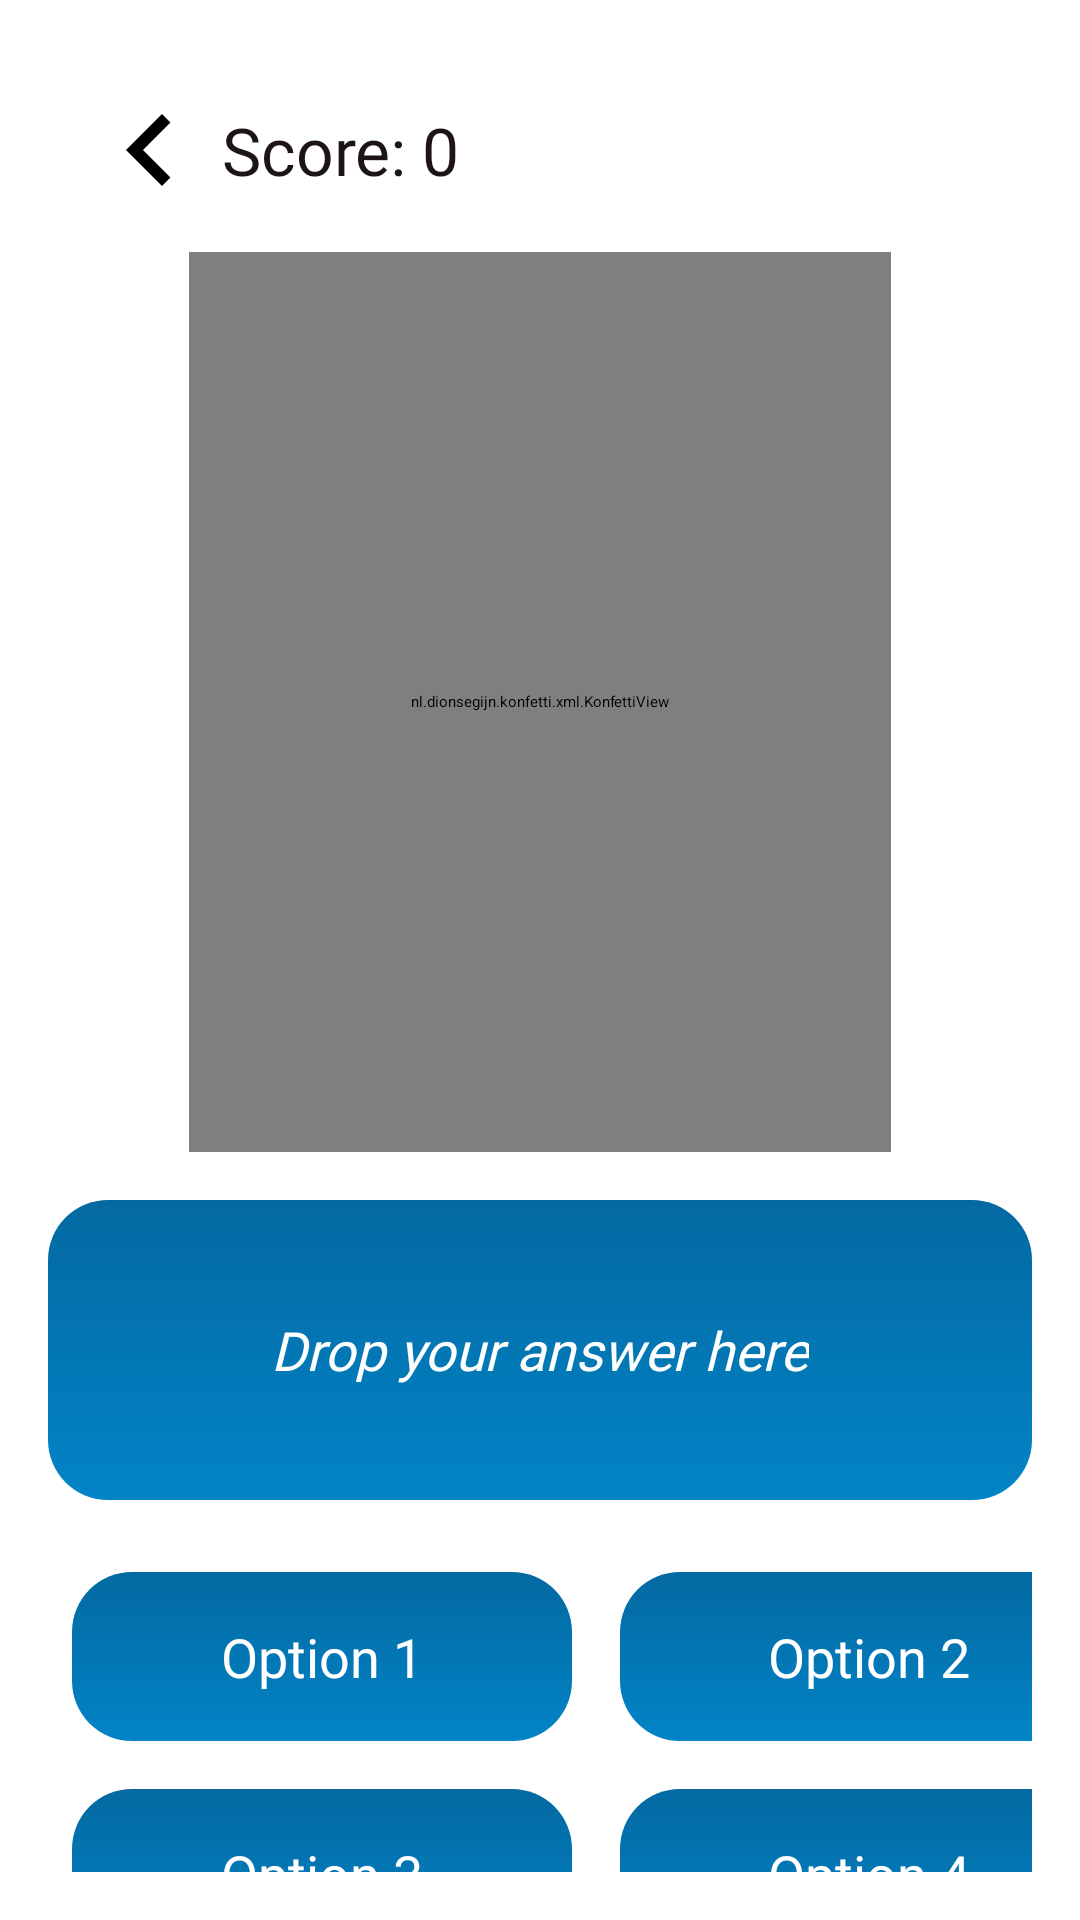

Where icons sit on this 1080x1920 app screen, as (left=x1, top=y1, right=x2, bottom=y2):
back: (left=126, top=114, right=171, bottom=186)
